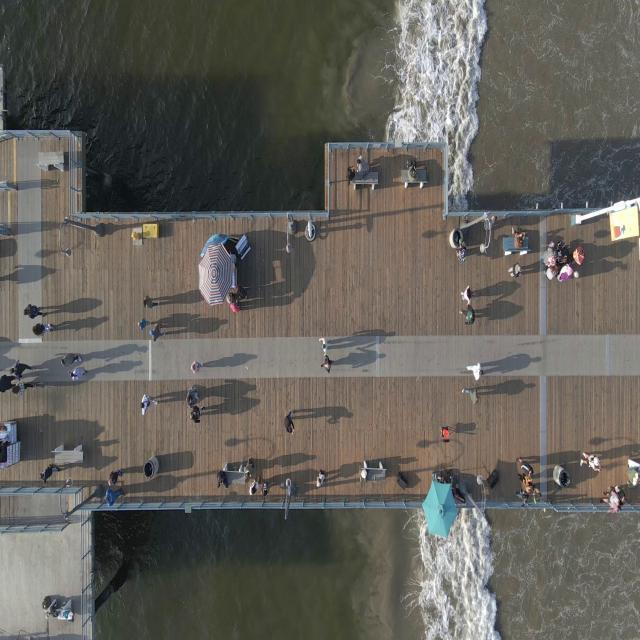vehicle: (579, 449, 603, 474), (600, 488, 620, 516), (10, 360, 34, 380), (607, 482, 627, 506), (516, 456, 534, 479), (140, 394, 158, 416), (282, 409, 296, 437), (516, 472, 534, 493), (511, 225, 526, 250), (406, 157, 419, 185), (459, 305, 475, 327), (60, 353, 82, 368), (466, 362, 484, 380), (356, 154, 370, 177), (105, 490, 125, 506), (24, 304, 46, 318), (462, 388, 479, 406), (150, 322, 166, 340), (460, 286, 474, 306), (215, 470, 229, 490), (190, 406, 206, 423), (32, 322, 51, 336), (12, 383, 36, 394), (68, 368, 88, 381), (109, 468, 122, 488), (144, 295, 160, 310), (508, 262, 523, 278), (186, 386, 198, 406), (315, 468, 326, 489), (320, 356, 334, 372), (318, 336, 329, 356), (346, 165, 356, 186), (516, 490, 530, 504), (138, 318, 152, 331), (190, 361, 204, 374), (250, 479, 260, 496), (261, 481, 270, 498), (533, 486, 542, 502)
